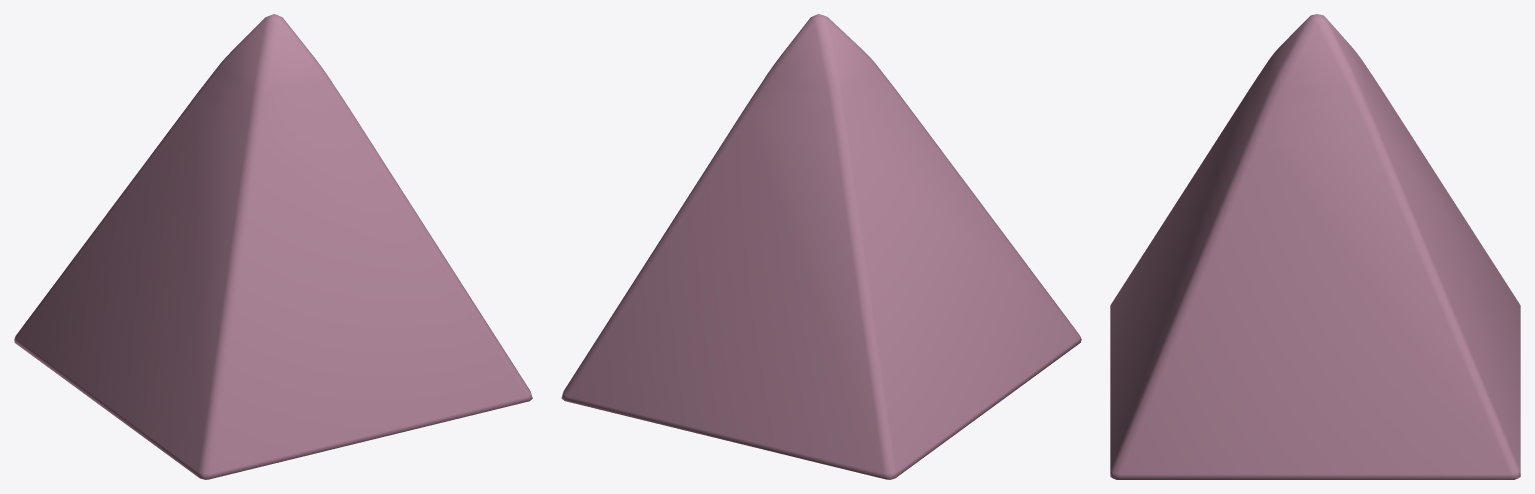
File: bush-67_col.fbx
3 views of the same model, side by side, from view 1: azimuth 30°, elevation 25°; view 2: azimuth 150°, elevation 25°; view 3: azimuth 270°, elevation 25° (orthographic). The views are drawn at different scales.
Parts seen in each view (by area): view 1: bush-67.col; view 2: bush-67.col; view 3: bush-67.col.
Boxes of the visible parts, <box> form: bush-67.col: <box>14,14,532,479</box>; bush-67.col: <box>561,14,1081,479</box>; bush-67.col: <box>1110,14,1520,479</box>.
Bounding box in the file's own units: 0.0927 × 0.0952 × 0.0927.
1 material, 1 textured.
